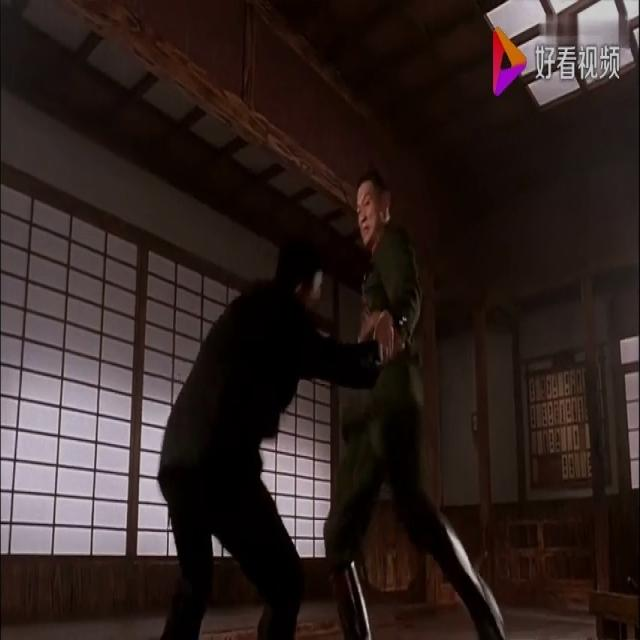fight: (141, 157, 494, 639)
